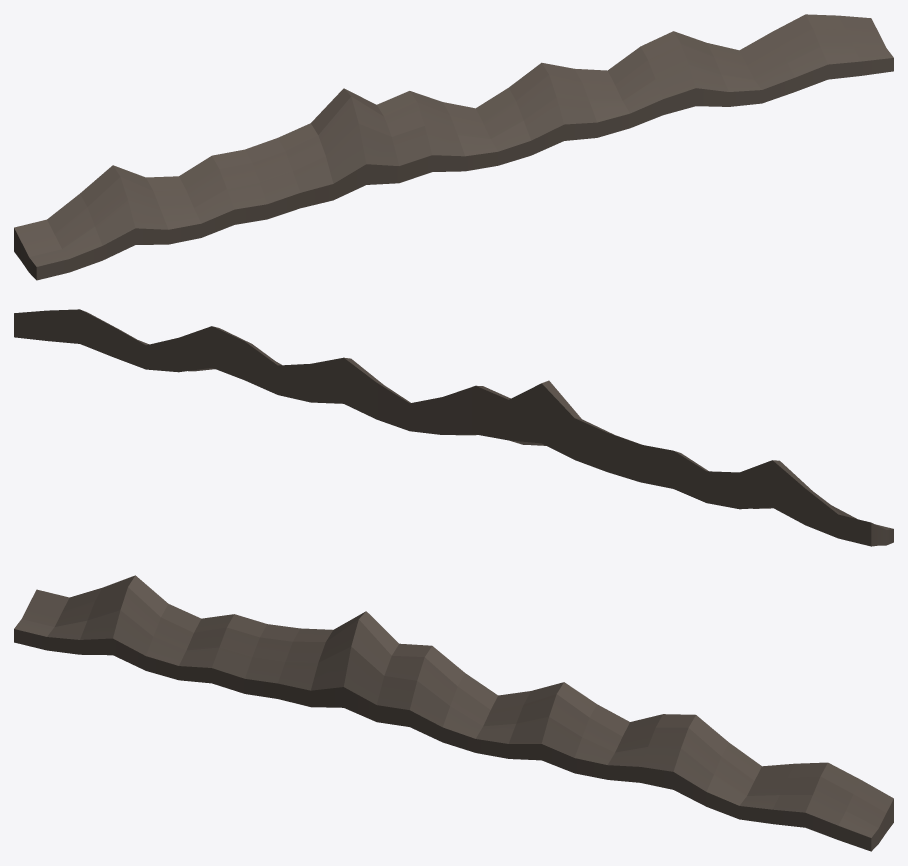
File: DistantMountains1.fbx
3 views of the same model, one above another, from view 1: azimuth 30°, elevation 25°; view 2: azimuth 150°, elevation 25°; view 3: azimuth 330°, elevation 25° (orthographic).
Parts seen in each view (by area): view 1: Cube.011; view 2: Cube.011; view 3: Cube.011.
Part boxes in pixels (x1,y1,x2,y2): Cube.011: (14, 14, 893, 280); Cube.011: (14, 309, 893, 546); Cube.011: (14, 575, 893, 851).
Bounding box in the file's own units: 11315 × 1202 × 517.
Materials: 1 (1 with a texture image).
